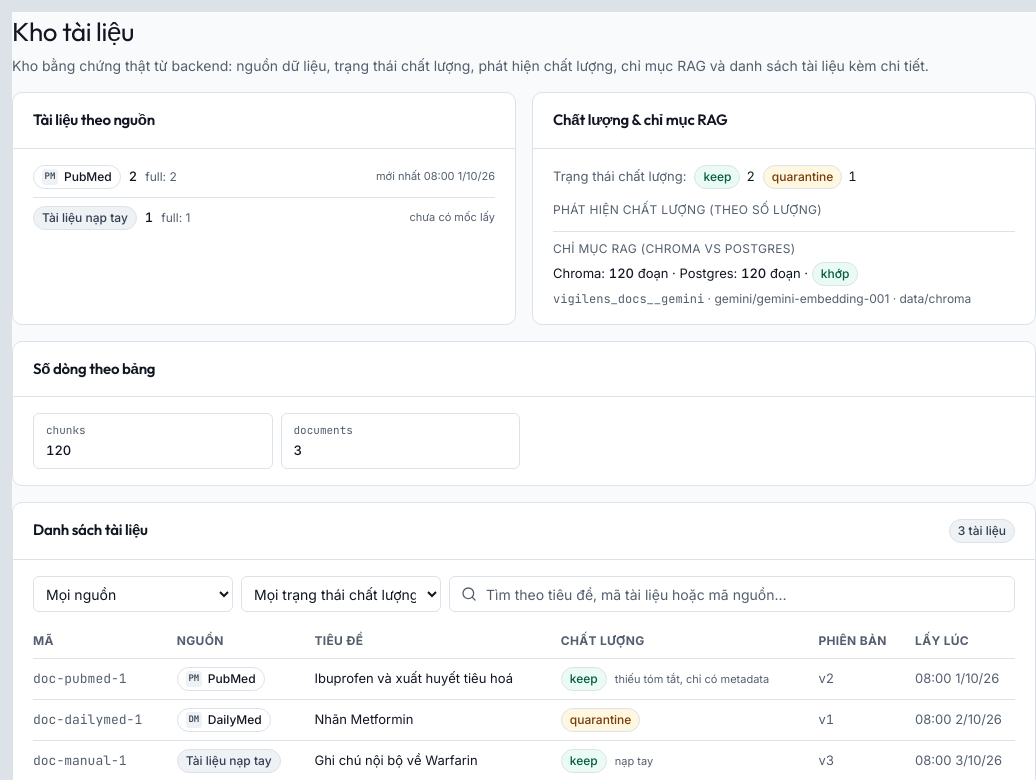
it: /admin/corpus — bảng tài liệu › không tài liệu nào khớp bộ lọc thì hiện trạng thái rỗng
The image size is (1036, 780).
Step 1. Type "khong-co-tai-lieu-nao" into the field named "Tìm tài liệu trong kho" → (732, 594), box [449,576,1015,612]
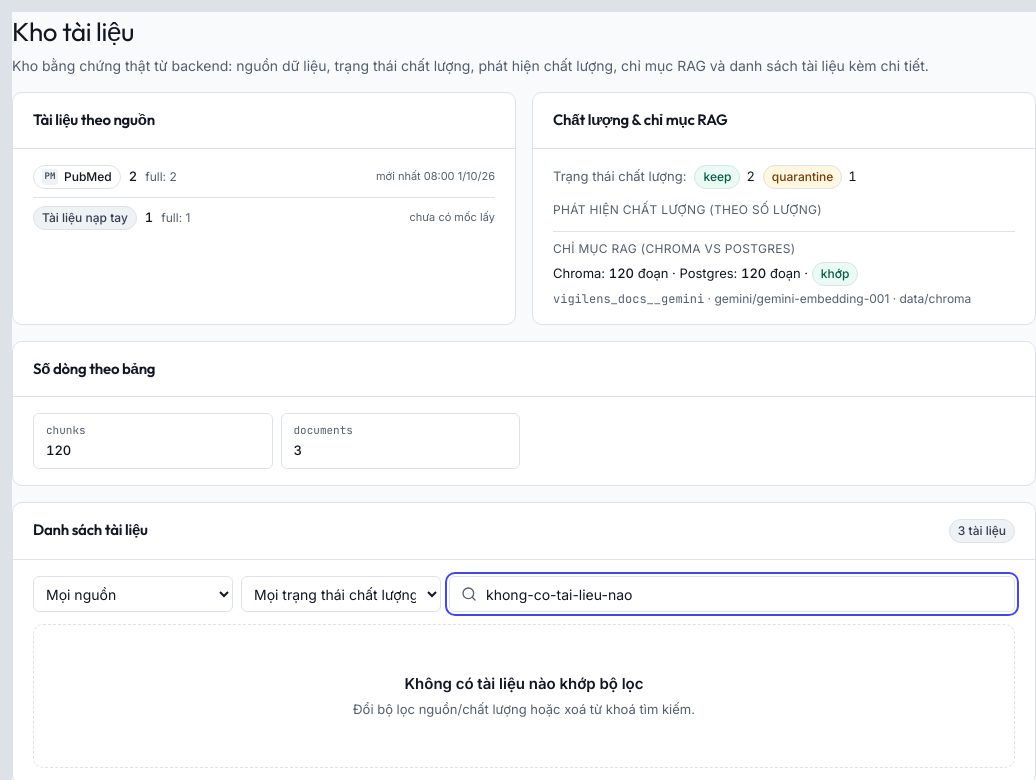
Expected: the text "Không có tài liệu nào khớp bộ lọc" is shown, [404,674,644,693]
